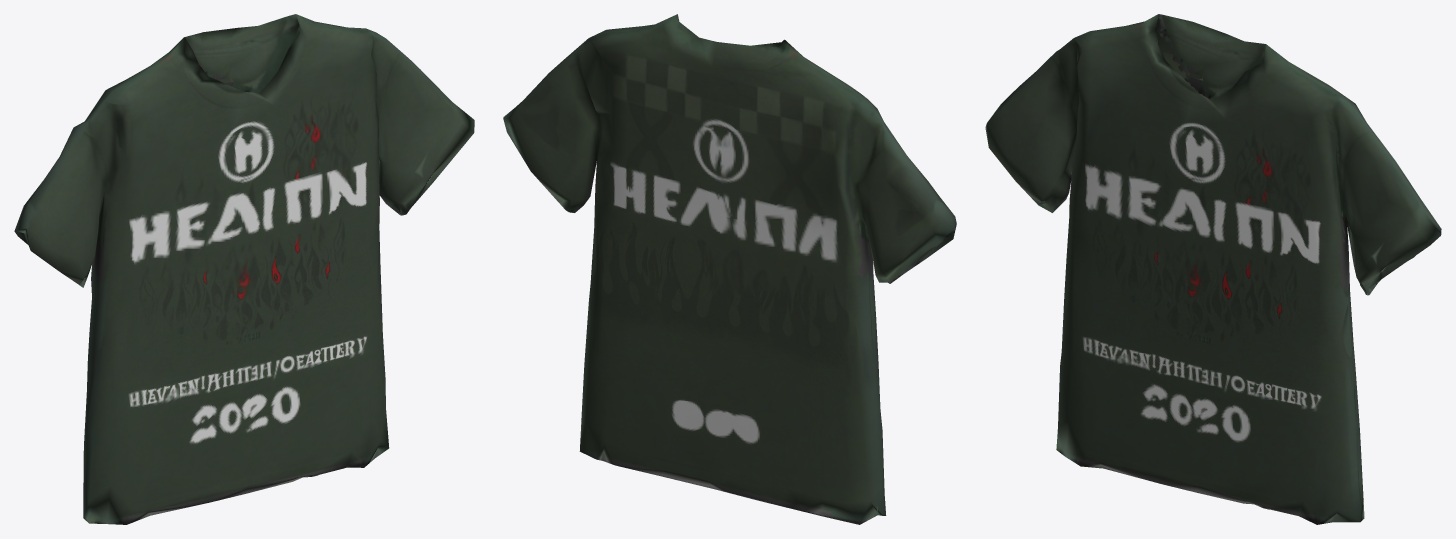
The model's file is Heavenly_Vision_0614220030_texture.glb.
3 renders of one model, left to right at view 1: azimuth 30°, elevation 25°; view 2: azimuth 150°, elevation 25°; view 3: azimuth 330°, elevation 25°, orthographic.
Bounding box in the file's own units: 1.99 × 1.93 × 0.1963.
1 material, 1 textured.
